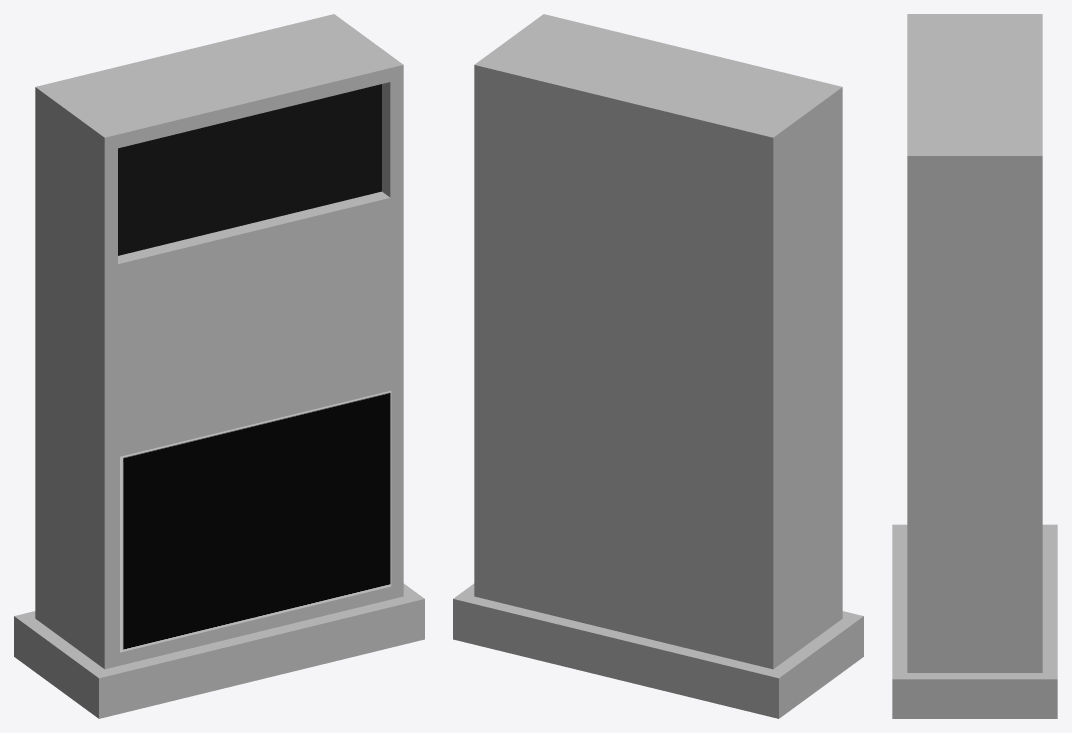
The model's file is Itr_Airconditioner1_Body_01.FBX.
3 views of the same model, side by side, from view 1: azimuth 30°, elevation 25°; view 2: azimuth 150°, elevation 25°; view 3: azimuth 270°, elevation 25° (orthographic). The views are drawn at different scales.
Parts seen in each view (by area): view 1: Itr_Airconditioner1_Body_01; view 2: Itr_Airconditioner1_Body_01; view 3: Itr_Airconditioner1_Body_01.
Part boxes in pixels (x1=…): Itr_Airconditioner1_Body_01: x1=14, y1=14, x2=424, y2=718; Itr_Airconditioner1_Body_01: x1=453, y1=14, x2=863, y2=718; Itr_Airconditioner1_Body_01: x1=892, y1=14, x2=1057, y2=718.
Bounding box in the file's own units: 48.49 × 81.38 × 21.9.
